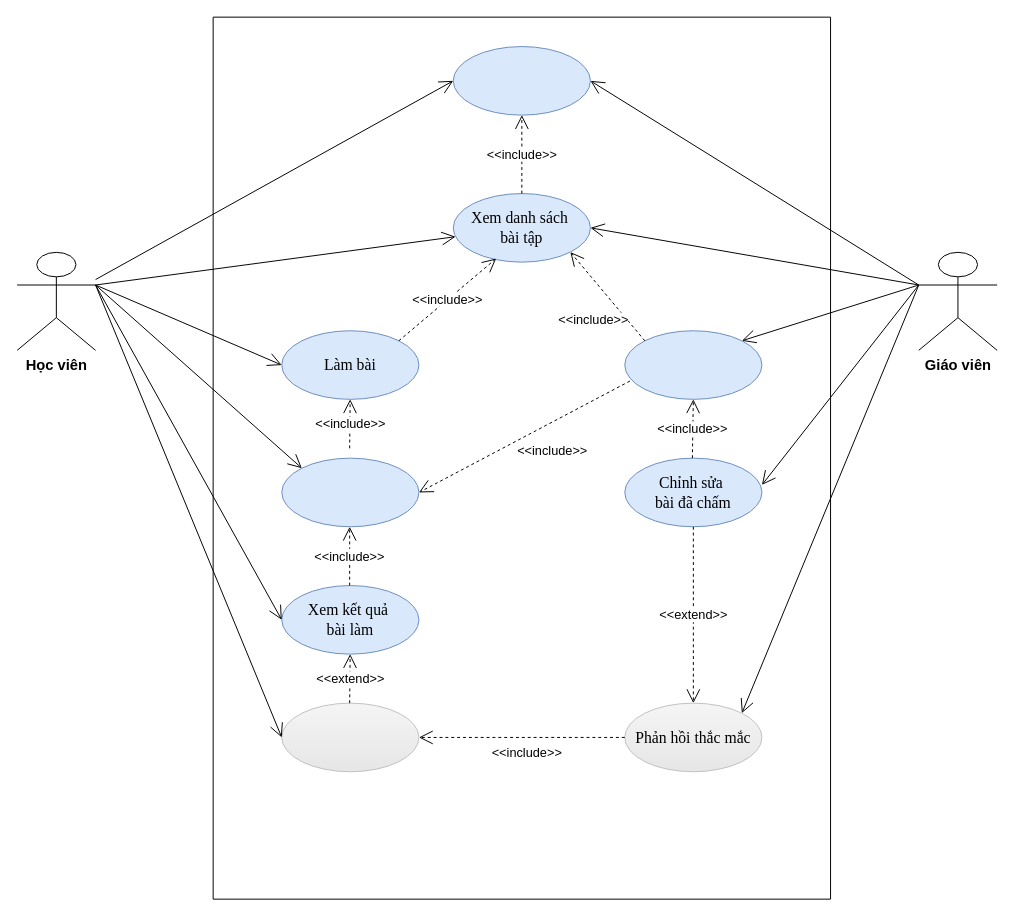
Some shapes in this 1014 by 916 pixel diagram are drawn without their labels. The centre of each missing label's shape, as x and y in pixels:
Chấm bài: pixel 693 364
Gửi thắc mắc về bài: pixel 350 737
Nộp bài: pixel 350 492
Đăng nhập: pixel 521 80
